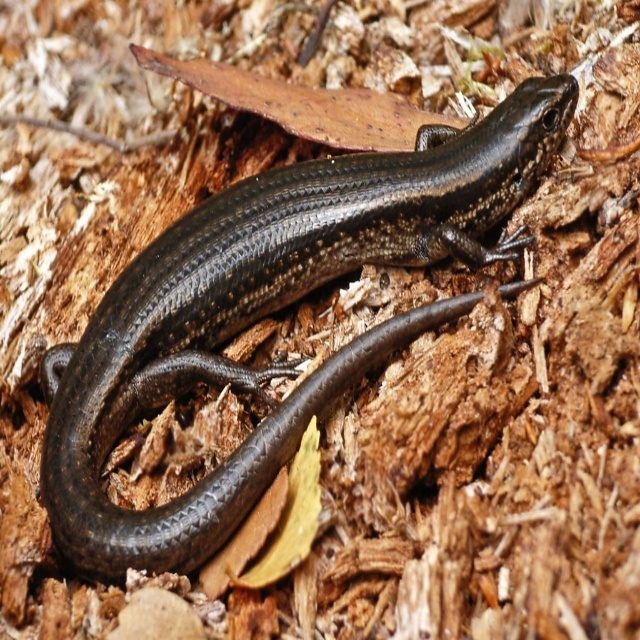Lizard: (39, 74, 579, 580)
